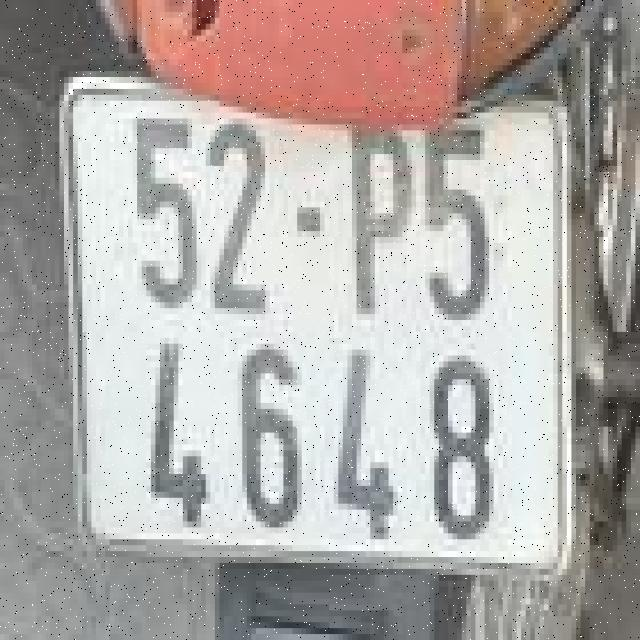2: (201, 113, 274, 326)
4: (128, 323, 219, 542), (327, 326, 409, 551)
5: (418, 95, 496, 326), (124, 95, 201, 314)
6: (222, 320, 318, 533)
8: (418, 335, 505, 548)
P: (343, 107, 416, 326)
